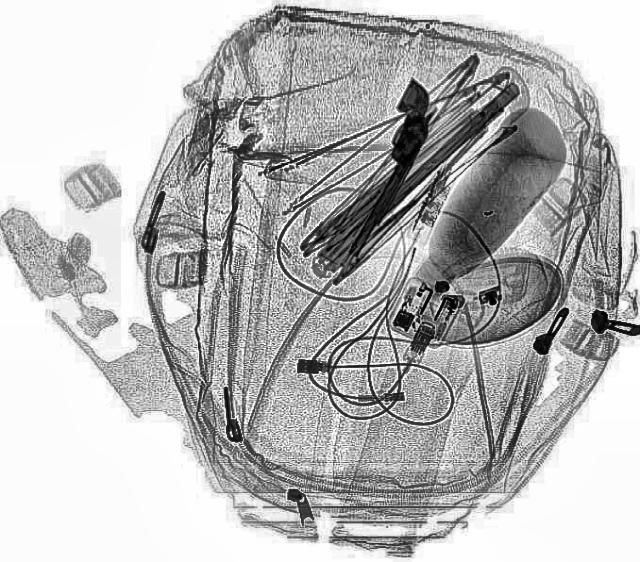Gun: (330, 73, 448, 257)
